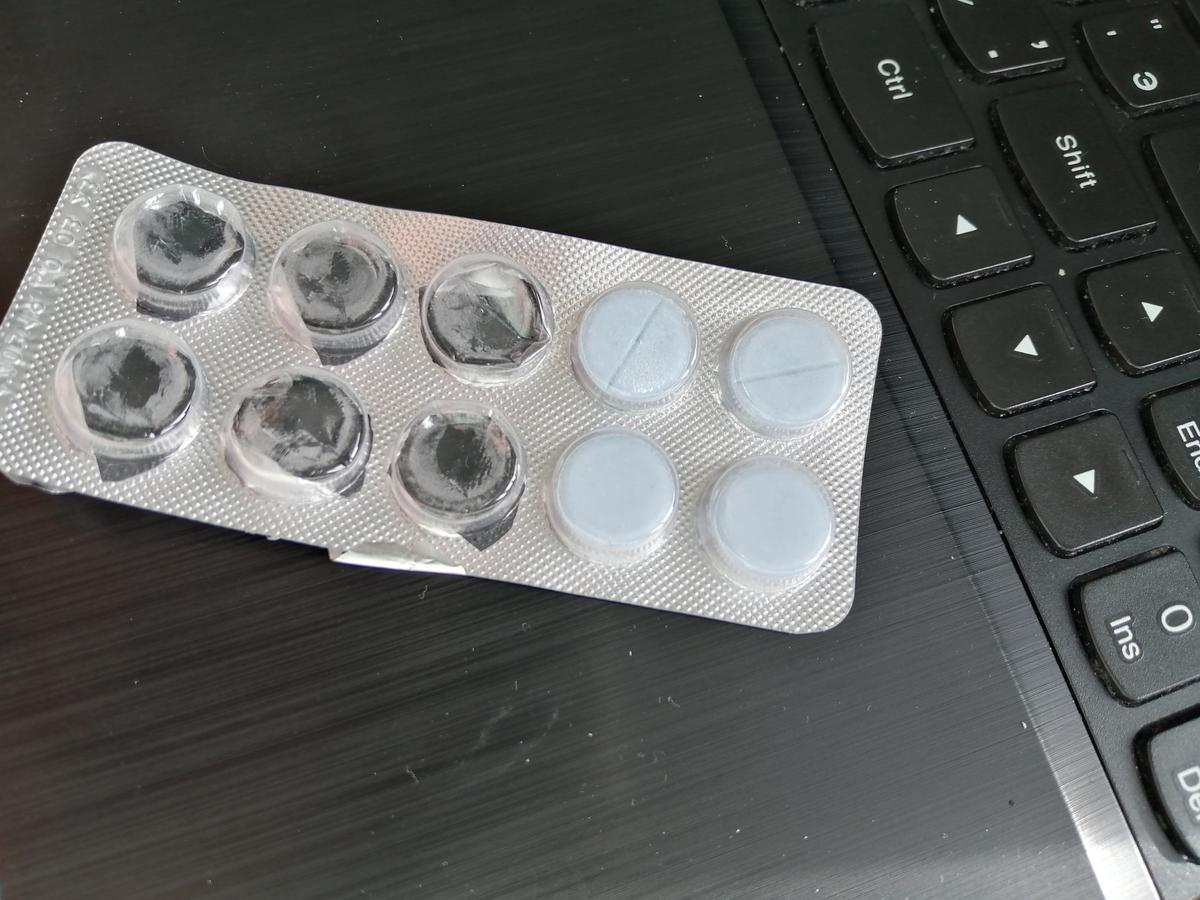tablet: (573, 279, 705, 412), (549, 422, 677, 558), (698, 451, 834, 579), (719, 306, 851, 436)
